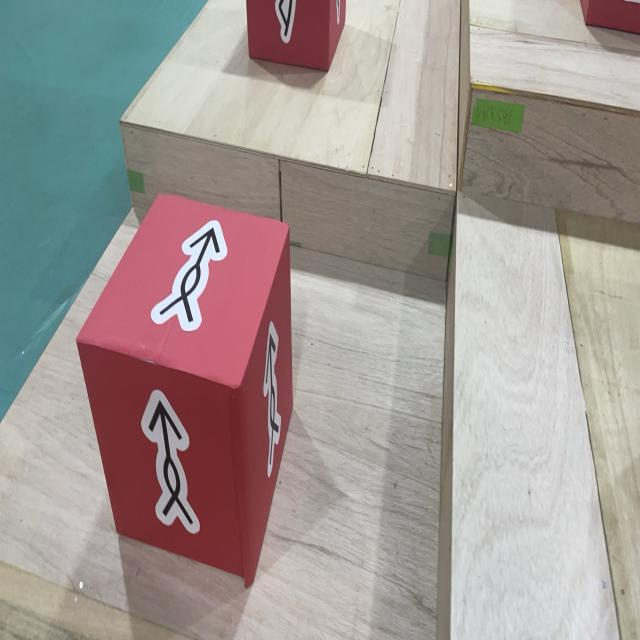11: (274, 0, 296, 43)
12: (150, 218, 228, 332), (141, 389, 200, 535), (263, 319, 282, 478)
fighter: (76, 193, 293, 590), (246, 0, 346, 72), (581, 0, 640, 36)
